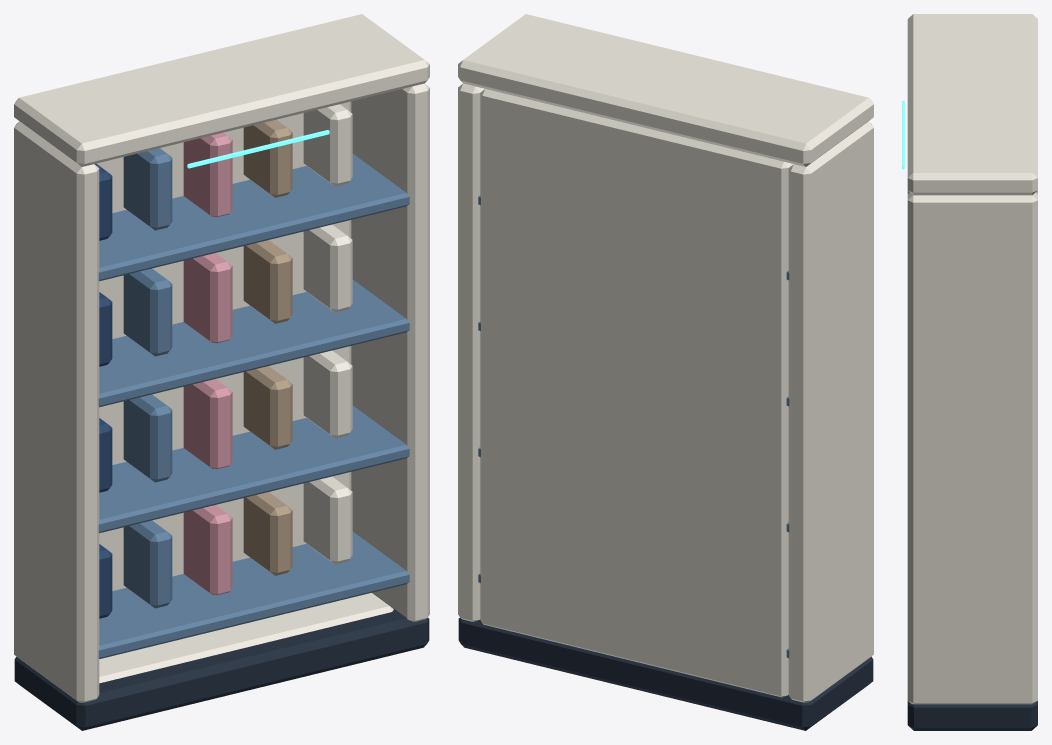
The model's file is storage_02.glb.
3 renders of one model, left to right at view 1: azimuth 30°, elevation 25°; view 2: azimuth 150°, elevation 25°; view 3: azimuth 270°, elevation 25°, orthographic. The views are drawn at different scales.
Parts seen in each view (by area): view 1: Side (×2), Book (×20), Shelf (×4), Top, Base, Back, Bottom, StatusLight; view 2: Back, Side (×2), Top, Base; view 3: Side, Top, Base.
Part boxes in pixels (bbox=[...]): Side (×2): bbox=[14, 83, 429, 702]; Book (×20): bbox=[94, 104, 352, 618]; Shelf (×4): bbox=[98, 154, 409, 658]; Top: bbox=[14, 14, 429, 166]; Base: bbox=[14, 593, 429, 730]; Back: bbox=[96, 101, 351, 590]; Bottom: bbox=[99, 593, 393, 683]; StatusLight: bbox=[187, 130, 329, 168]; Back: bbox=[480, 89, 793, 697]; Side (×2): bbox=[458, 83, 873, 702]; Top: bbox=[458, 14, 873, 166]; Base: bbox=[458, 618, 873, 730]; Side: bbox=[907, 192, 1037, 704]; Top: bbox=[907, 14, 1037, 195]; Base: bbox=[907, 701, 1037, 730].
Size of the model in its own units: 1.1 by 1.75 by 0.386.
